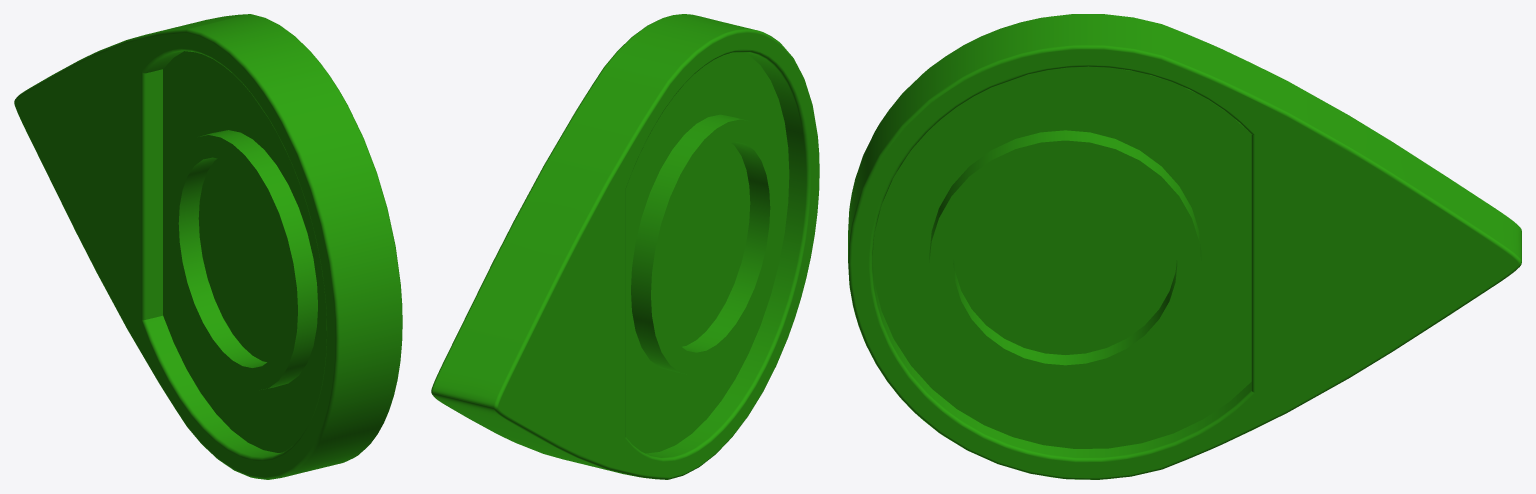
The model's file is ICONO 1.fbx.
3 views of the same model, side by side, from view 1: azimuth 30°, elevation 25°; view 2: azimuth 150°, elevation 25°; view 3: azimuth 270°, elevation 25° (orthographic). The views are drawn at different scales.
Parts seen in each view (by area): view 1: Body54; view 2: Body54; view 3: Body54.
Part boxes in pixels (left/top/right/bottom): Body54: left=14, top=14, right=402, bottom=479; Body54: left=431, top=14, right=819, bottom=479; Body54: left=848, top=14, right=1521, bottom=479.
Bounding box in the file's own units: 112 × 675 × 947.
